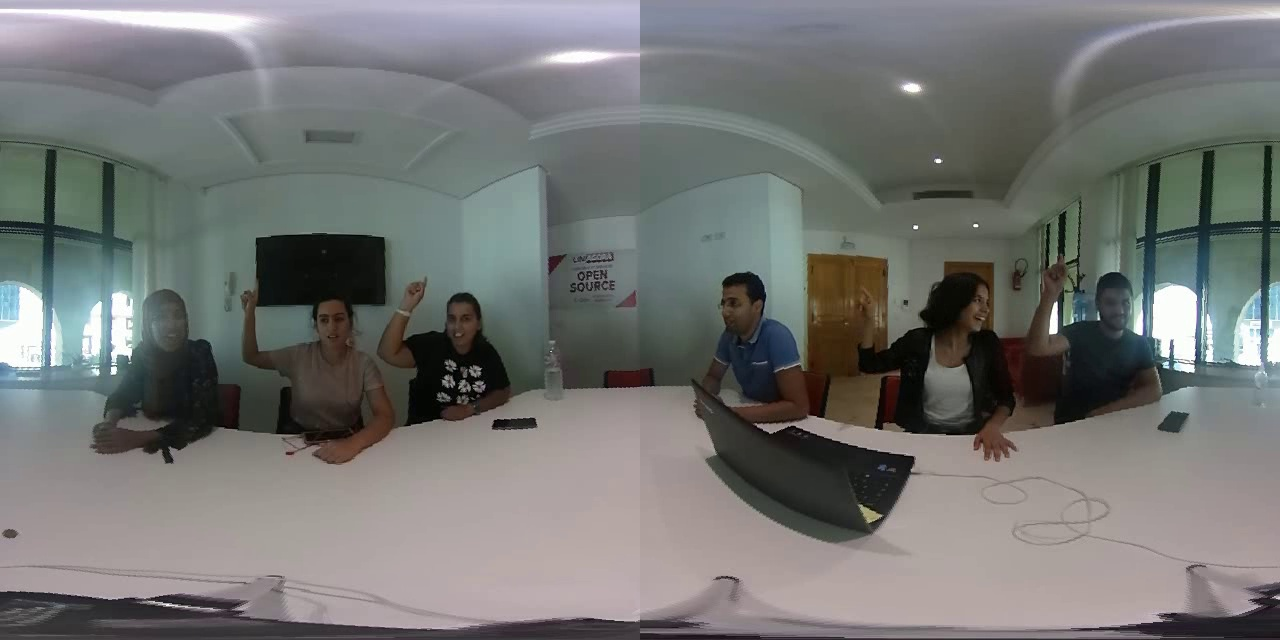person: (850, 261, 1023, 449), (234, 270, 391, 473), (1020, 256, 1185, 429), (88, 276, 231, 468), (682, 265, 826, 426), (388, 267, 529, 421)
speaking: (1026, 255, 1085, 365), (229, 277, 283, 392), (841, 273, 894, 382), (382, 274, 428, 371)
